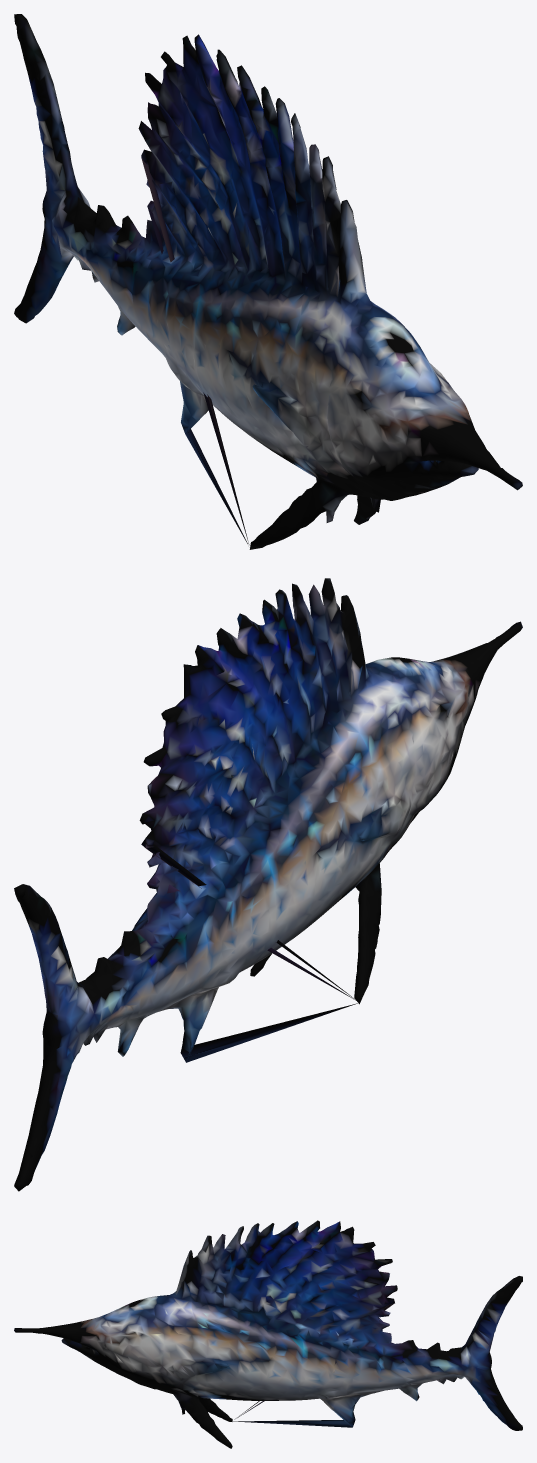
File: fish_sail.glb
The picture shows the model from 3 angles, top to bottom: view 1: azimuth 30°, elevation 25°; view 2: azimuth 150°, elevation 25°; view 3: azimuth 270°, elevation 25°; orthographic projection. The views are drawn at different scales.
Parts seen in each view (by area): view 1: geometry_0; view 2: geometry_0; view 3: geometry_0.
Boxes of the visible parts, <box> form: geometry_0: <box>14,14,522,549</box>; geometry_0: <box>14,578,522,1191</box>; geometry_0: <box>14,1220,522,1448</box>.
Bounding box in the file's own units: 0.2518 × 0.9117 × 1.95.
